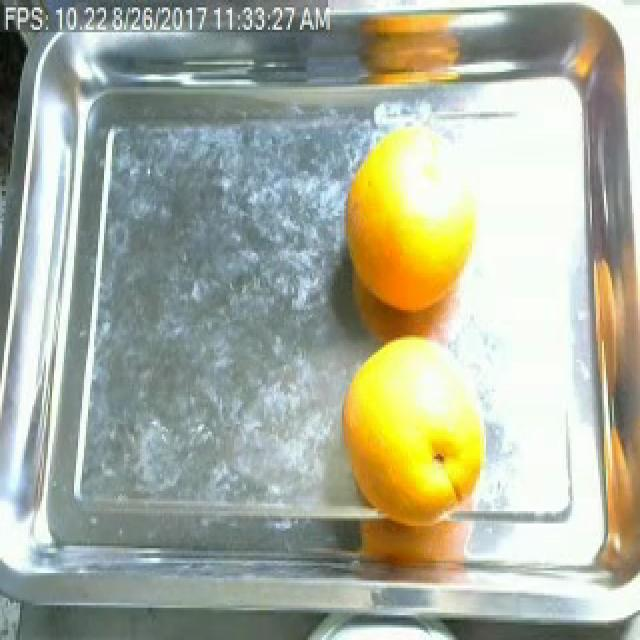Fruit: (348, 2, 476, 82)
